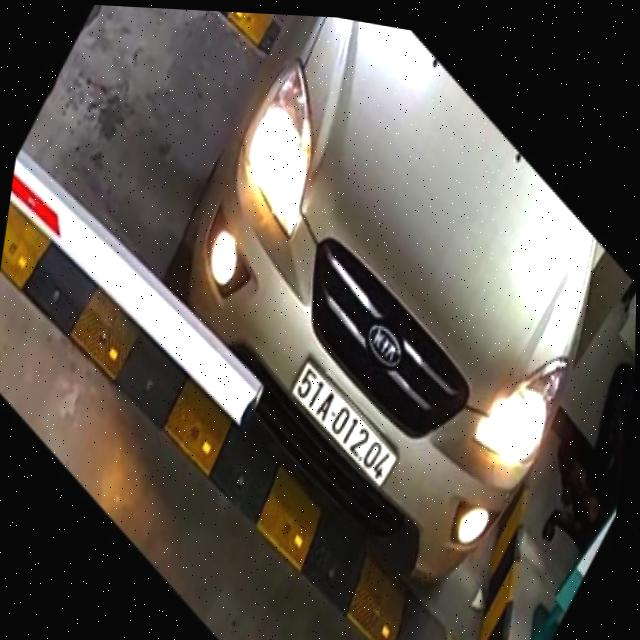car: (120, 7, 640, 616)
plate: (274, 348, 414, 500)
